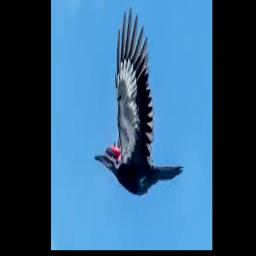Woodpecker: (94, 7, 184, 195)
